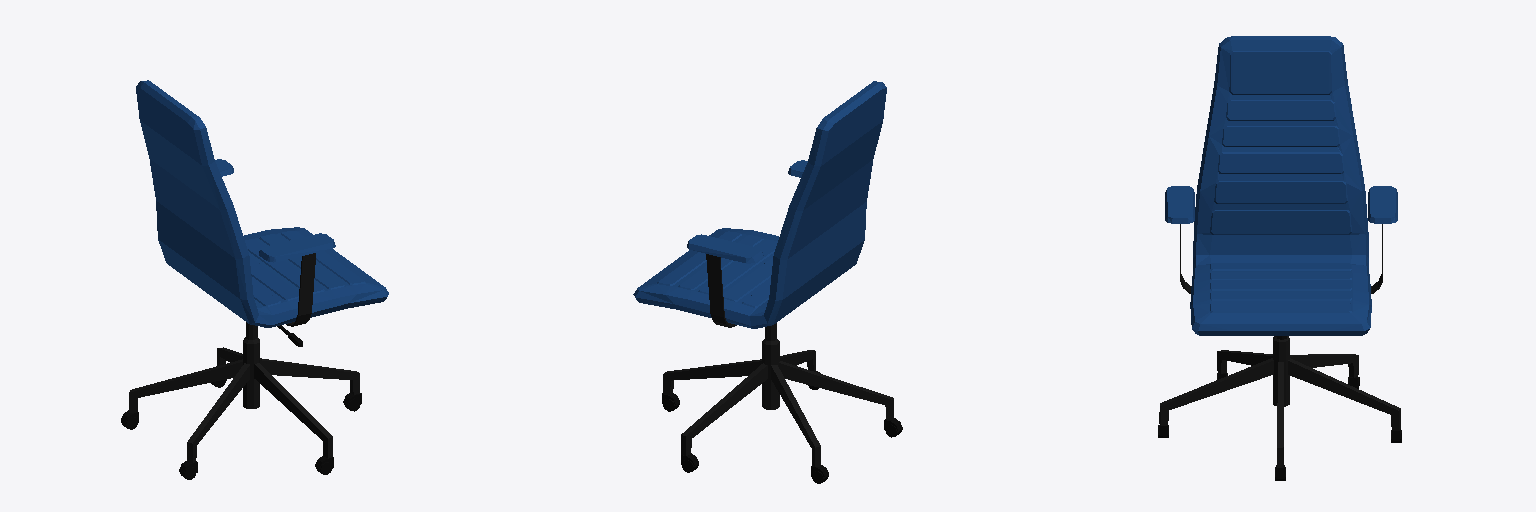
File: BlueChair2.obj
3 views of the same model, side by side, from view 1: azimuth 30°, elevation 25°; view 2: azimuth 150°, elevation 25°; view 3: azimuth 270°, elevation 25° (orthographic).
Parts seen in each view (by area): view 1: chaircushi; view 2: chaircushi; view 3: chaircushi.
Part boxes in pixels (bbox=[...]): chaircushi: bbox=[121, 80, 388, 479]; chaircushi: bbox=[633, 81, 902, 483]; chaircushi: bbox=[1158, 36, 1401, 480].
Bounding box in the file's own units: 2.21 × 3.61 × 2.24.